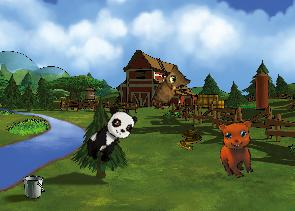bear: (210, 114, 267, 182)
owl: (149, 62, 194, 116)
panda: (80, 102, 140, 169)
